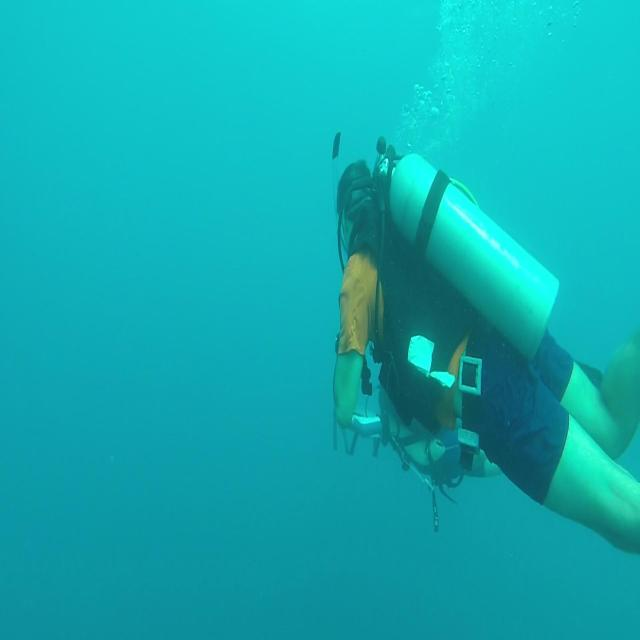human: (332, 135, 639, 554)
